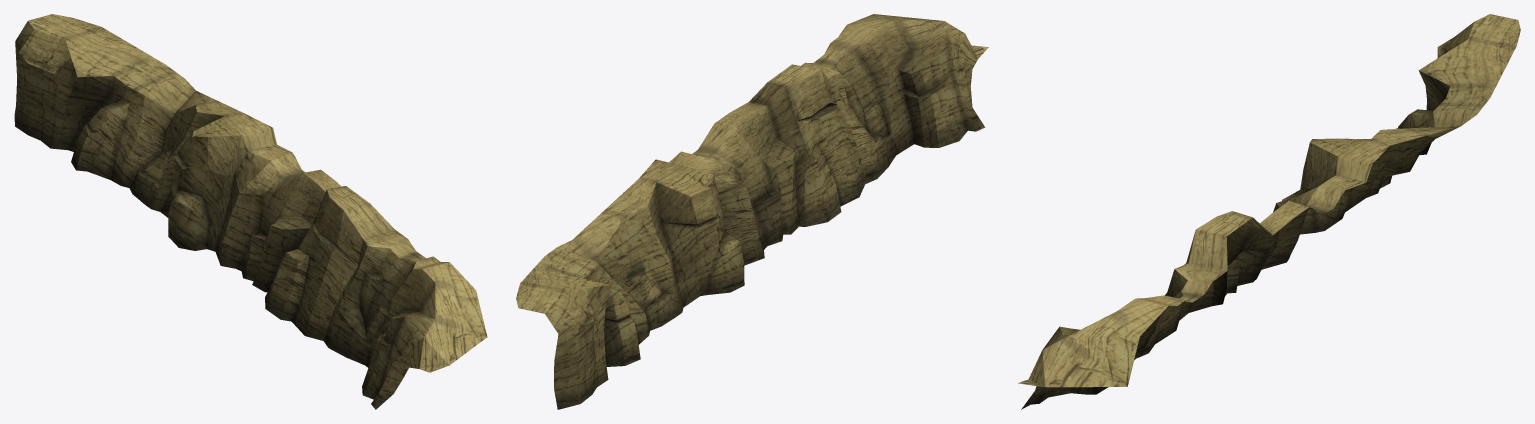
The model's file is mountain_02.fbx.
3 views of the same model, side by side, from view 1: azimuth 30°, elevation 25°; view 2: azimuth 150°, elevation 25°; view 3: azimuth 330°, elevation 25° (orthographic). The views are drawn at different scales.
Visible parts, largest first — view 1: mountain_02; view 2: mountain_02; view 3: mountain_02.
Boxes of the visible parts, <box> form: mountain_02: <box>14,14,487,409</box>; mountain_02: <box>516,14,988,409</box>; mountain_02: <box>1018,14,1520,409</box>.
Bounding box in the file's own units: 144 × 139 × 904.
